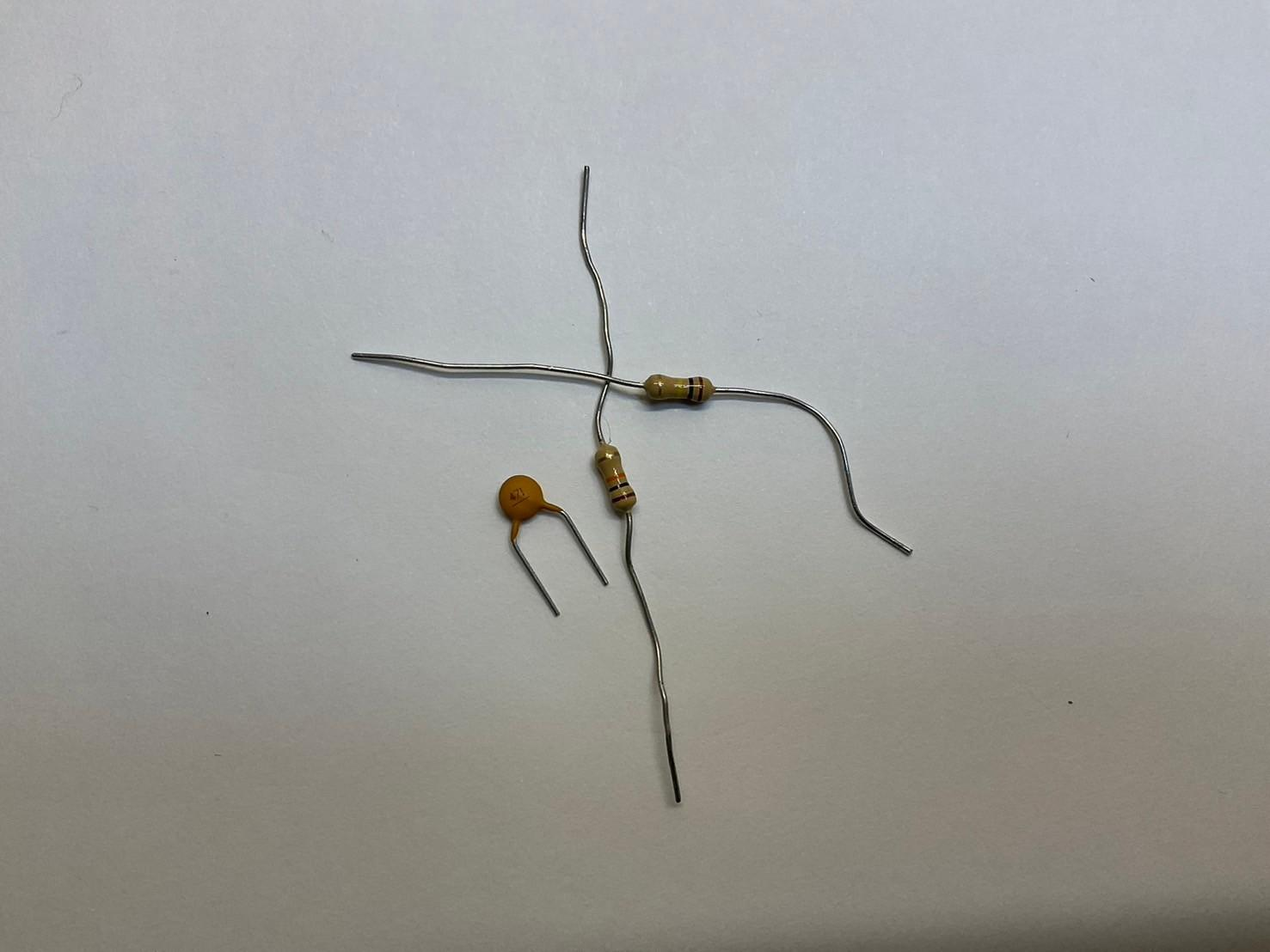resistor: (591, 443, 641, 514), (642, 371, 714, 409)
